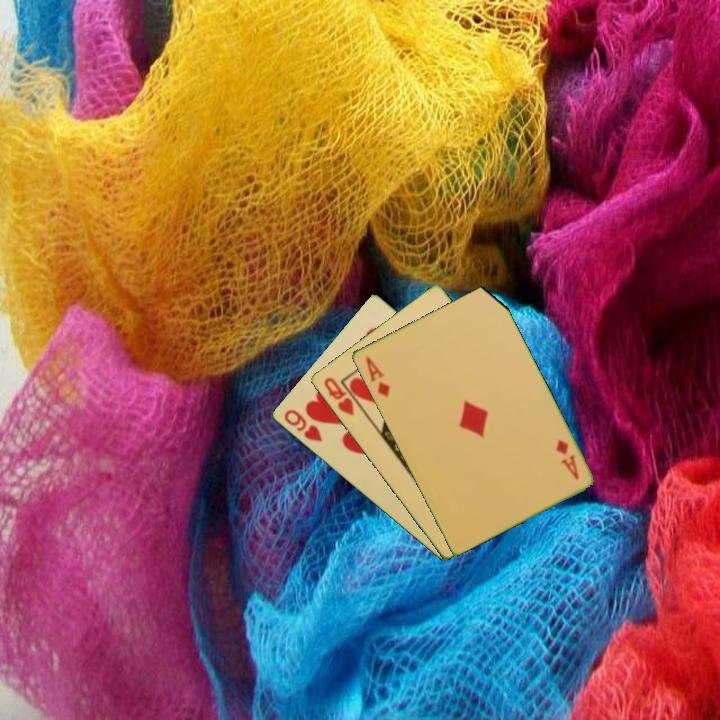9h: (280, 406, 325, 445)
Ad: (362, 353, 392, 400), (552, 436, 581, 482)
Qh: (320, 373, 357, 418)
